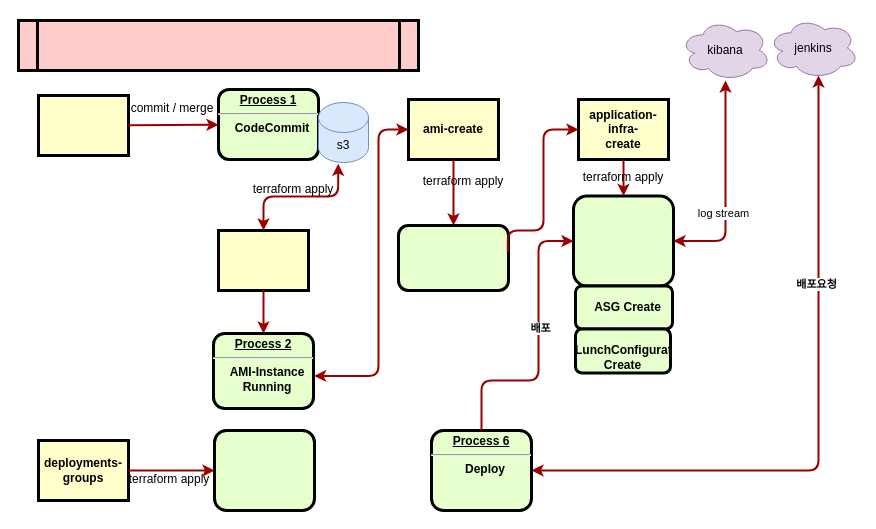
This 876x529 diagram has some shape labels left out. Here are the shapes that lost their labels. From the top down, the centre of each, then its label:
(218,45): 서비스 구축 프로세스
(83,125): init script create
(263,260): ami-instance create
(453,258): Process 3 AMI Create
(623,240): Process 4 Application Instance Running
(264,470): Process 5 Deployment Group Create
